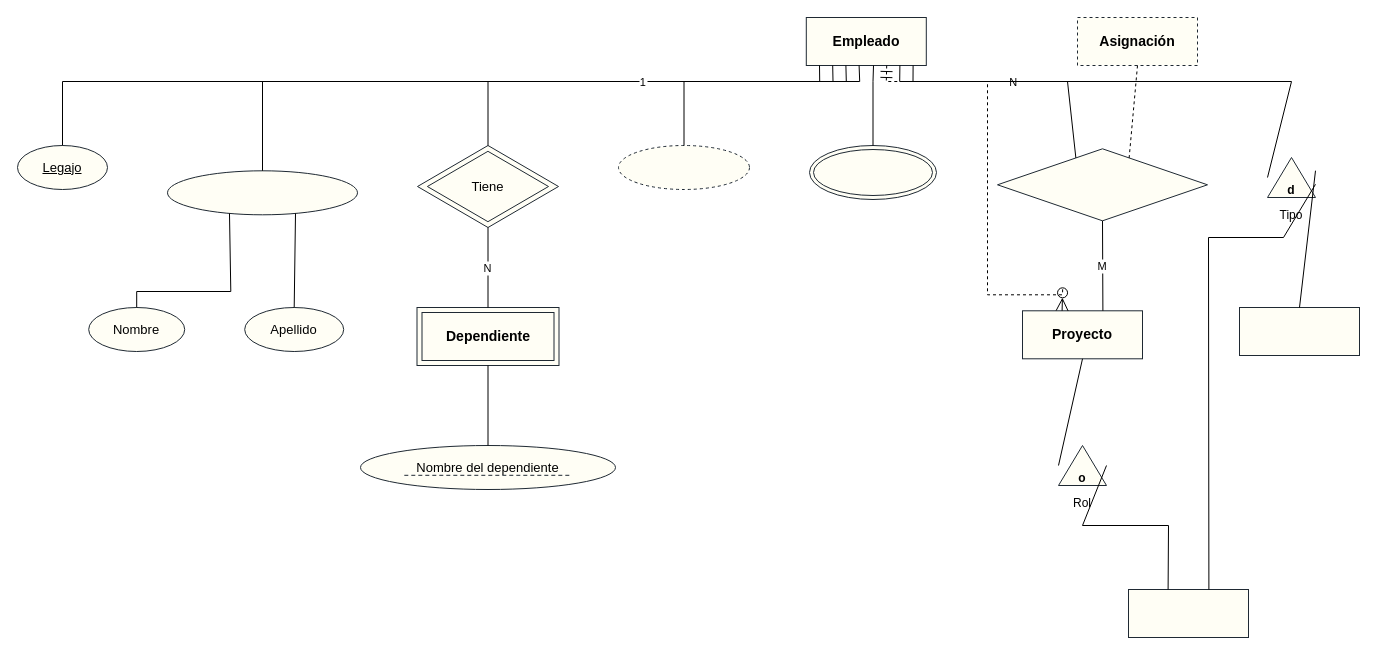
Image size: 1377x655. Some labels were removed from this diagram. Each missing label, with the centre of its shape:
"Antigüedad" goes at [684,167].
"Gerente" goes at [1188,613].
"Nombre completo" goes at [262,192].
"Teléfonos" goes at [872,172].
"Trabaja en" goes at [1102,184].
"Técnico" goes at [1299,331].
